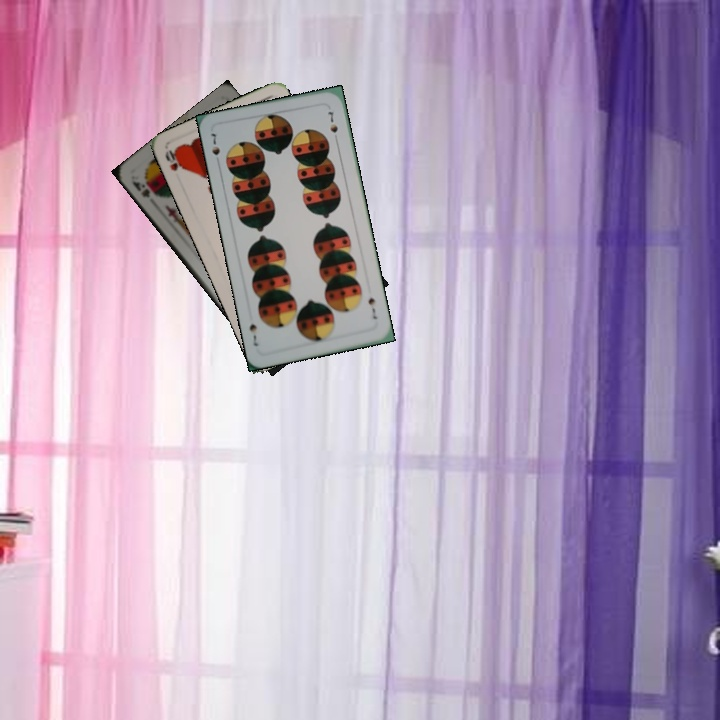HO: (161, 146, 186, 174)
S7: (207, 129, 223, 168), (364, 294, 380, 322)
SK: (128, 177, 160, 200)
